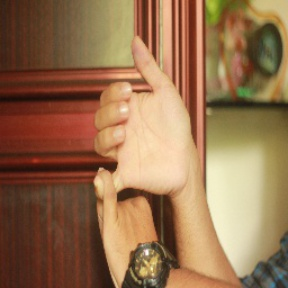S: (91, 31, 194, 288)
